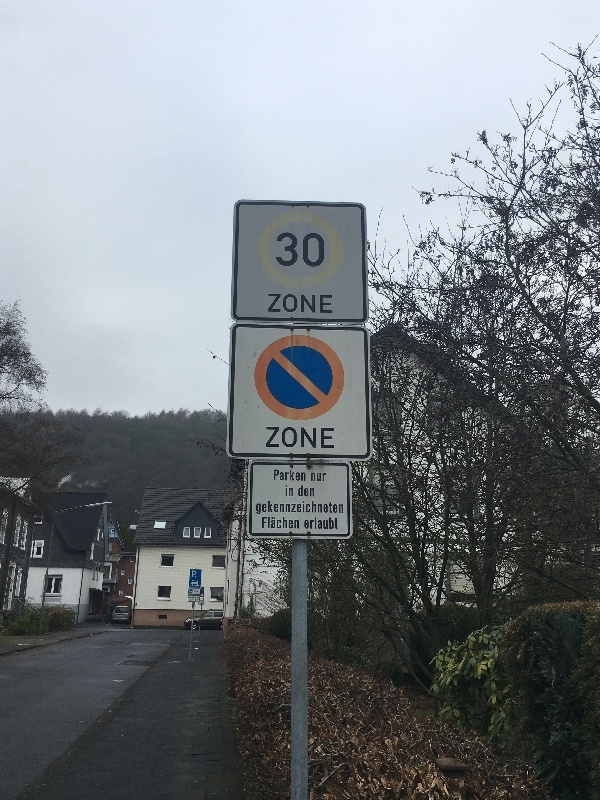text: (289, 233, 304, 268), (305, 233, 320, 268), (277, 233, 288, 268), (273, 427, 288, 449), (289, 427, 304, 449), (305, 427, 320, 449), (321, 427, 335, 449), (273, 294, 288, 314), (289, 294, 304, 314), (305, 294, 320, 314), (321, 294, 333, 314), (257, 500, 272, 514), (273, 500, 288, 514), (289, 500, 304, 514), (305, 500, 320, 514), (321, 500, 336, 514), (305, 517, 320, 530), (321, 517, 336, 530), (273, 516, 288, 529), (289, 470, 304, 481), (274, 470, 288, 481), (321, 233, 325, 268), (262, 516, 272, 529), (289, 516, 299, 529), (267, 427, 272, 449), (305, 485, 314, 497), (337, 500, 343, 514), (311, 473, 320, 482), (298, 485, 304, 497), (289, 485, 294, 497), (269, 294, 272, 314), (321, 473, 327, 482), (193, 570, 197, 578), (194, 591, 208, 593), (201, 588, 208, 592), (286, 485, 288, 497), (337, 517, 338, 530), (193, 599, 199, 601), (193, 597, 199, 599), (305, 470, 306, 481), (189, 597, 192, 599), (191, 599, 192, 601)
